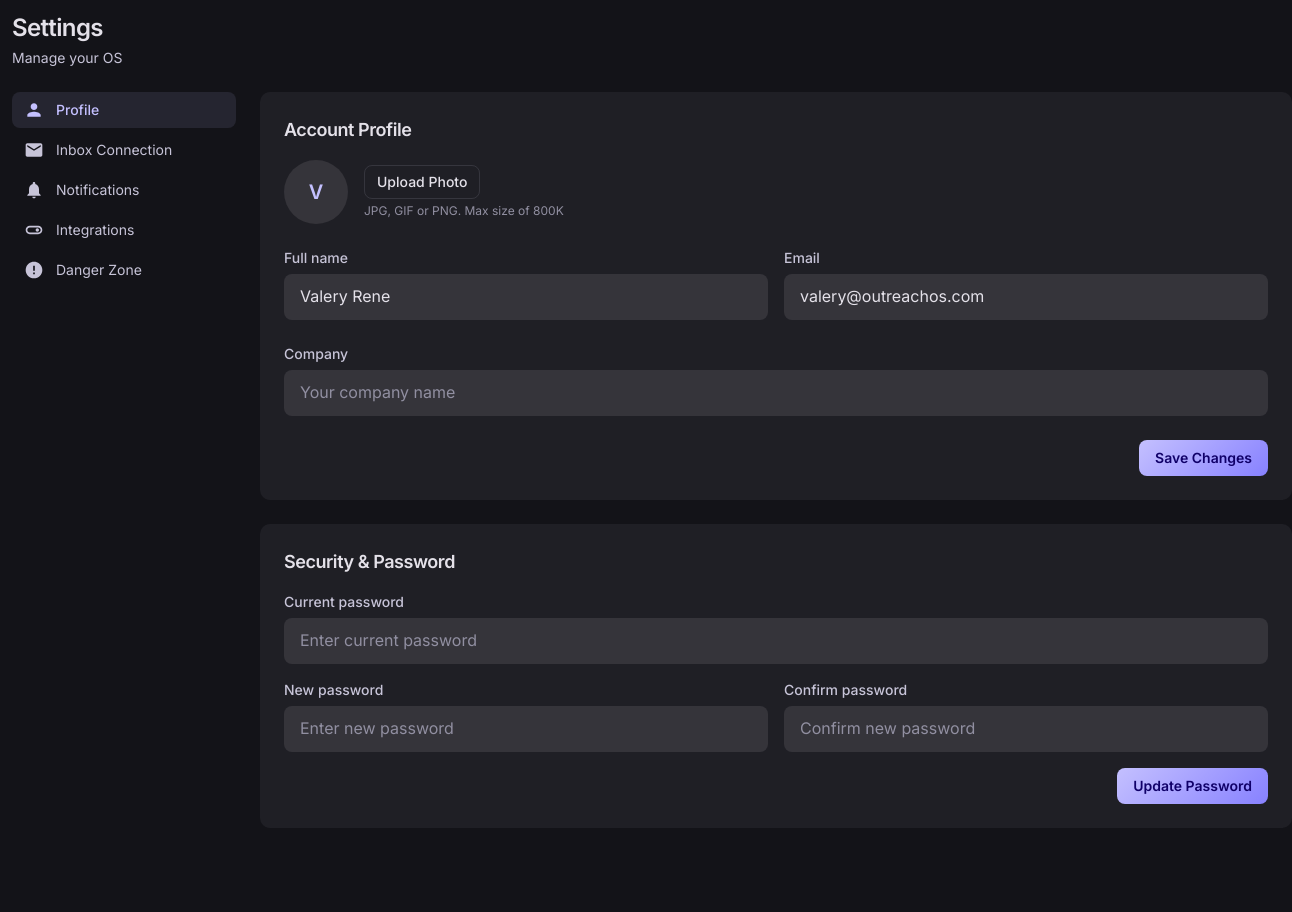
SettingsPage › switches to danger zone tab showing export and delete actions
Click the button "Danger Zone" at (124, 270), box [12,252,236,288]
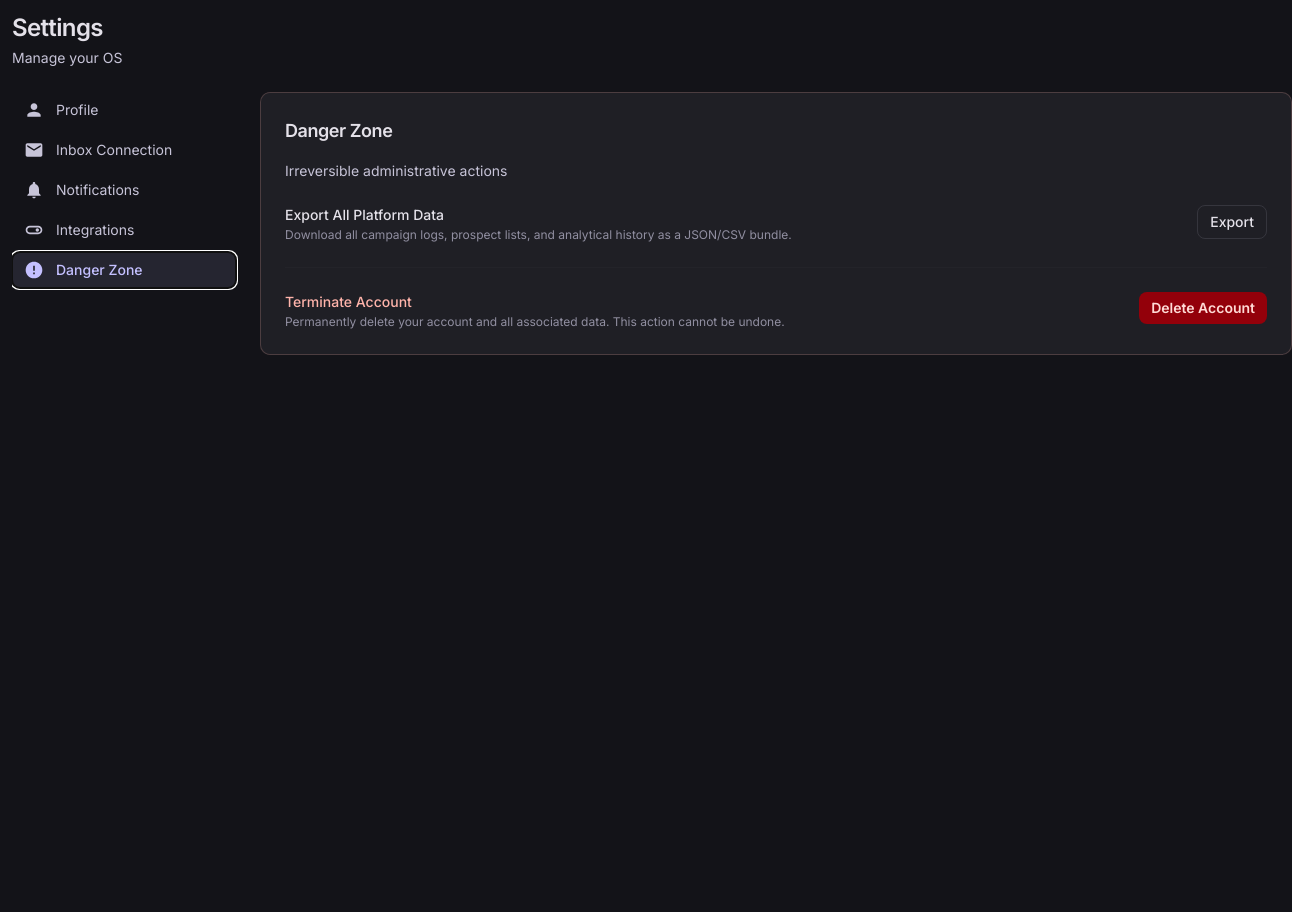
Expected: the text "Export All Platform Data" is shown, [285,206,444,223]
Expected: the text "Terminate Account" is shown, [285,293,412,310]
